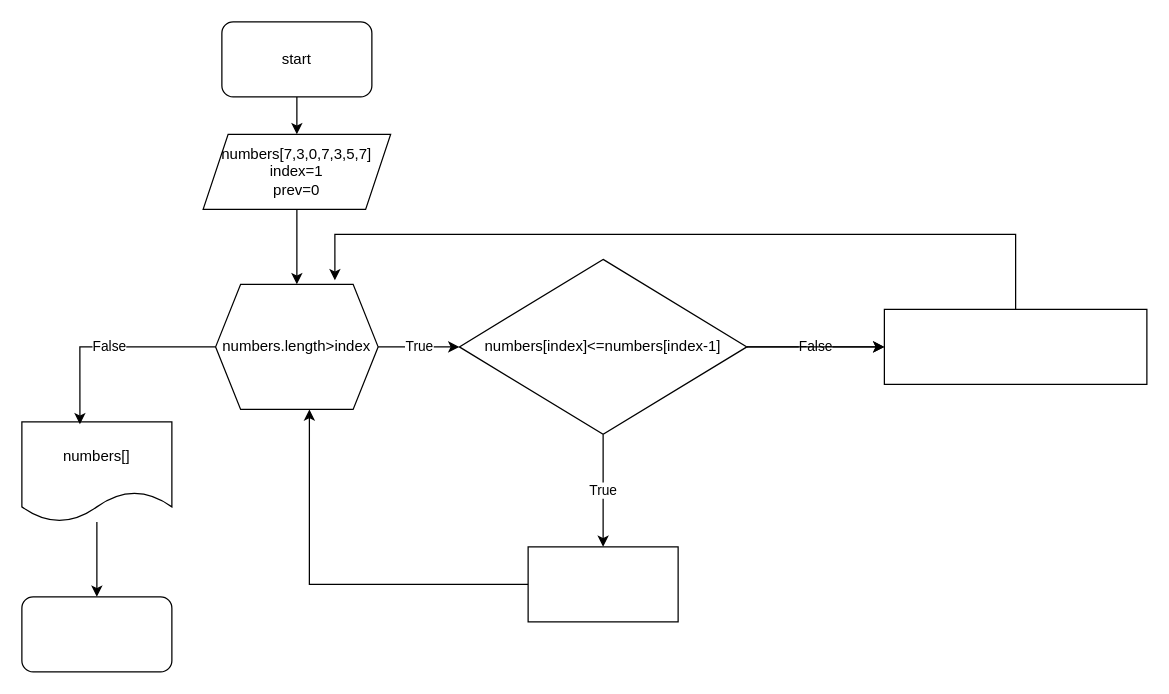
This 1169x694 diagram has some shape labels left out. Here are the shapes that lost their labels. From the top down, the centre of each, then its label:
At point (1015, 346): "prev=numbers[index] numbers[index-1]=numbers[index] numbers[index]=prev index++".
At point (602, 584): "index++".
At point (96, 634): "end".
